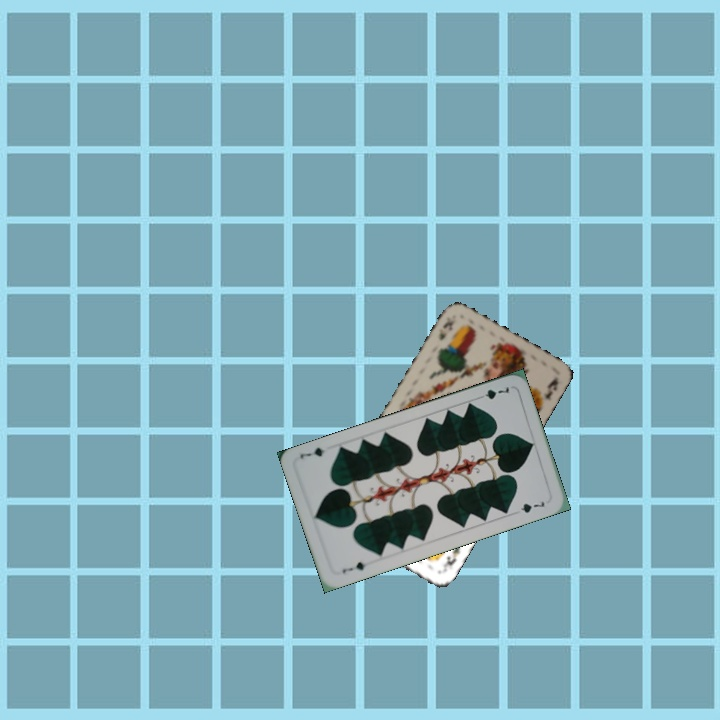EK: (439, 542, 463, 574), (435, 315, 458, 343)
G7: (473, 383, 512, 402), (338, 558, 368, 576)
